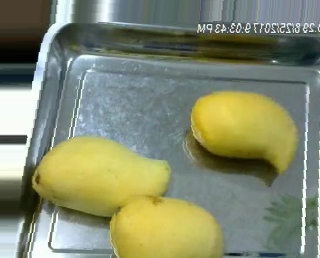Mango: (27, 133, 172, 222), (187, 90, 307, 178), (105, 194, 229, 257)
